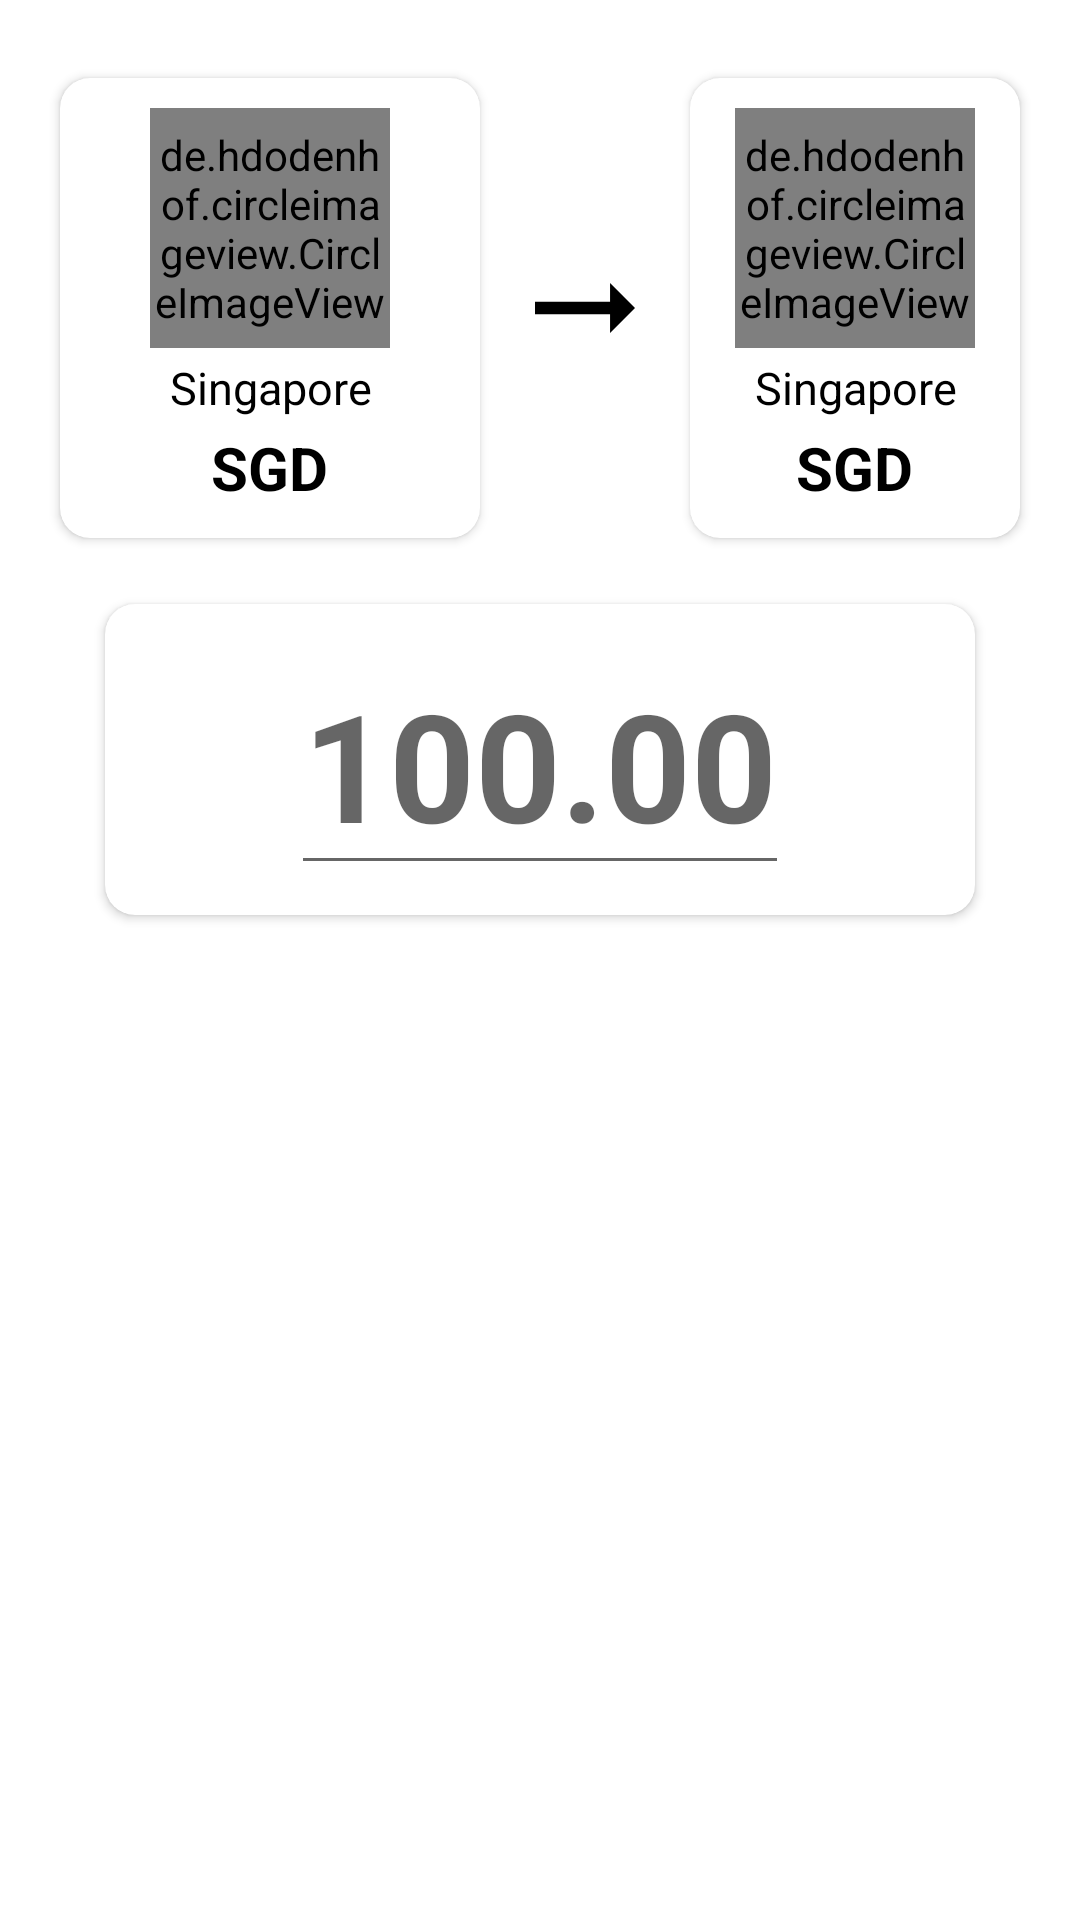

Where to tap for icons on this 1080 x 1920 app screen, as (x,y):
arrow right: (585,308)
